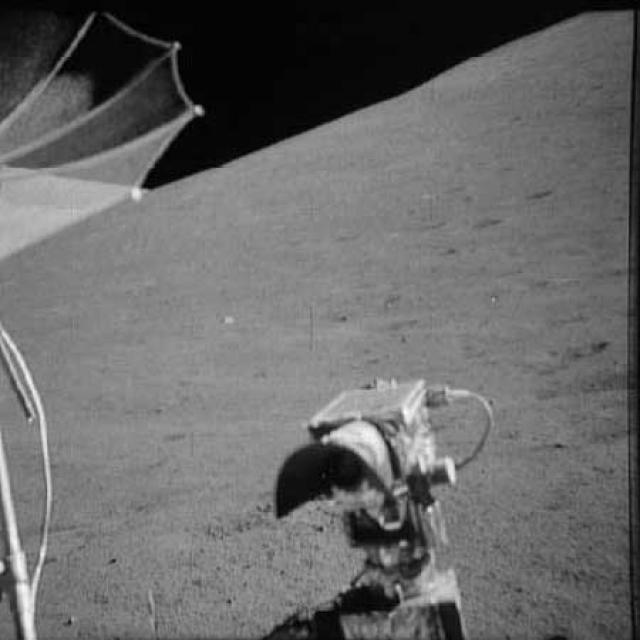artifact: (1, 0, 206, 637), (264, 376, 510, 640)
crater: (529, 357, 640, 398)
